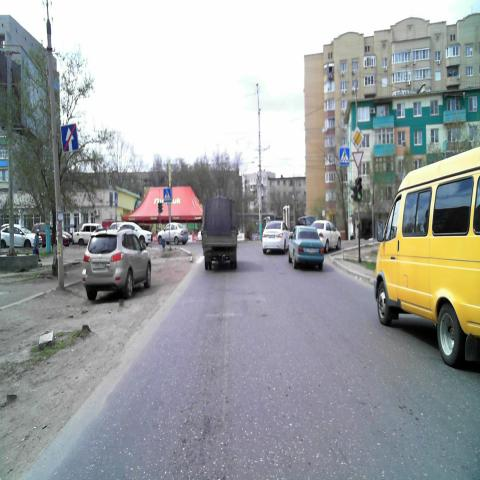2_4: (352, 151, 364, 168)
5_6: (61, 123, 79, 153)
